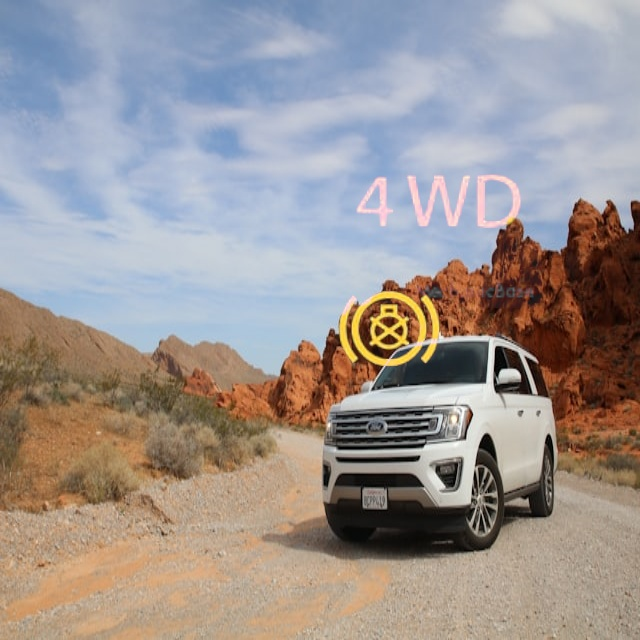symbol: (333, 99, 542, 308), (317, 258, 461, 402)
